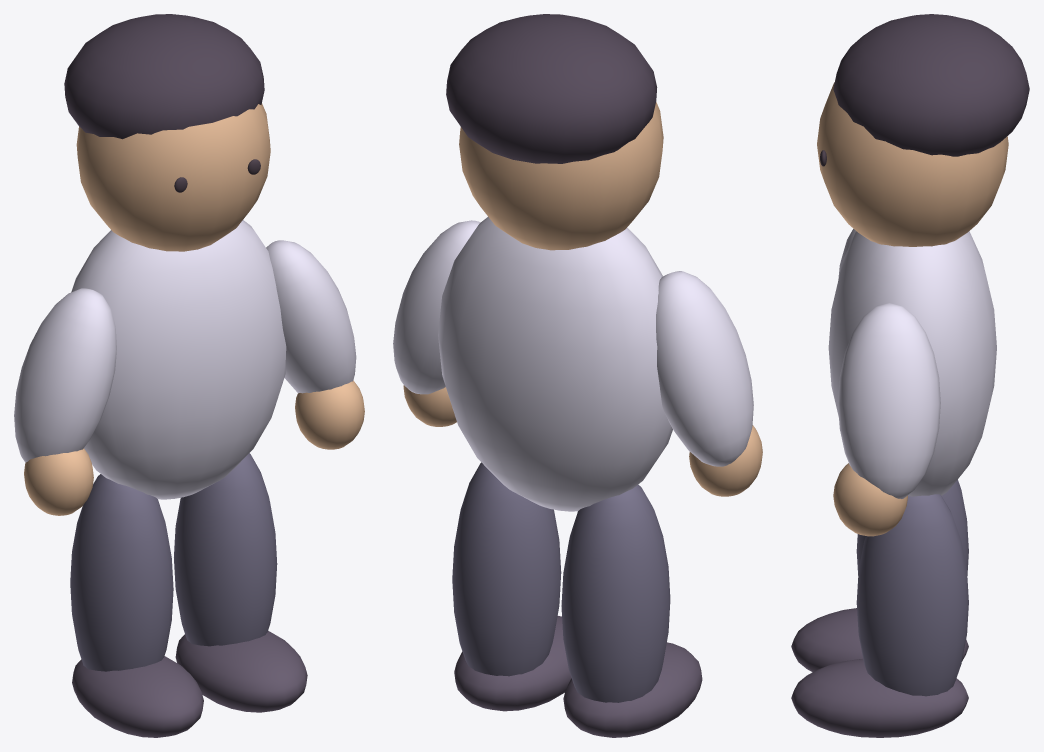
The model's file is author.gltf.
3 renders of one model, left to right at view 1: azimuth 30°, elevation 25°; view 2: azimuth 150°, elevation 25°; view 3: azimuth 270°, elevation 25°, orthographic. The views are drawn at different scales.
Parts seen in each view (by area): view 1: body, leg (×2), arm (×2), head, hair, shoe (×2), hand (×2); view 2: body, leg (×2), hair, arm (×2), head, shoe (×2), hand (×2); view 3: hair, body, leg (×2), head, arm, shoe (×2), hand.
Boxes of the visible parts, x1,y1,x2,y2 form: body: [71, 220, 286, 499]; leg (×2): [70, 453, 277, 671]; arm (×2): [14, 240, 356, 462]; head: [76, 103, 270, 251]; hair: [64, 14, 264, 139]; shoe (×2): [72, 630, 307, 737]; hand (×2): [24, 380, 364, 515]; body: [438, 217, 672, 511]; leg (×2): [452, 462, 670, 702]; hair: [446, 14, 657, 163]; arm (×2): [393, 220, 753, 466]; head: [459, 102, 663, 250]; shoe (×2): [454, 616, 702, 737]; hand (×2): [403, 385, 762, 496]; hair: [833, 14, 1029, 156]; body: [828, 231, 996, 496]; leg (×2): [856, 479, 968, 696]; head: [817, 82, 1008, 246]; arm: [838, 303, 940, 498]; shoe (×2): [791, 608, 968, 737]; hand: [833, 463, 907, 536].
Size of the model in its own units: 0.83 by 1.59 by 0.51.
